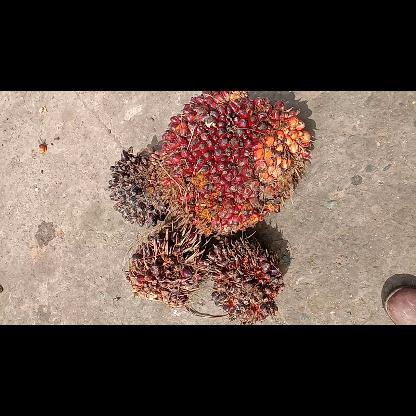TBS abnormal: (122, 222, 212, 310), (204, 234, 286, 324), (104, 143, 172, 229)
TBS masak: (148, 90, 316, 238)
